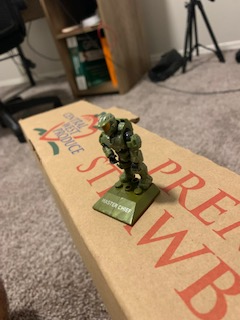chief: (94, 111, 154, 193)
spartan: (92, 109, 152, 191)
